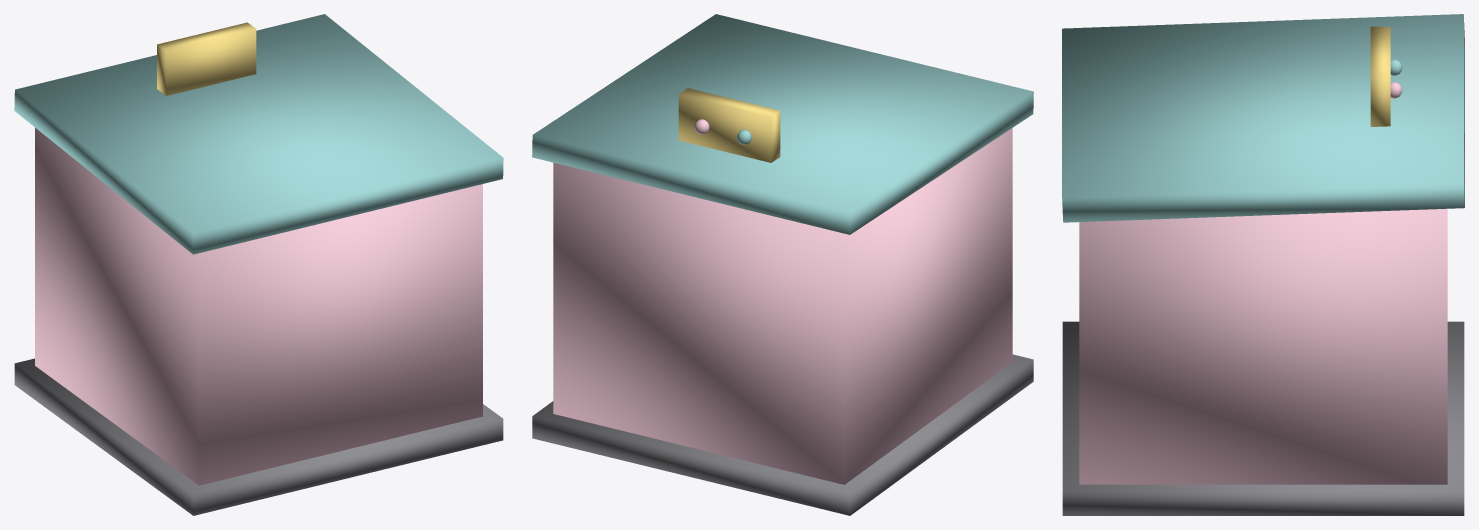
File: arcade_center_lv2.glb
3 renders of one model, left to right at view 1: azimuth 30°, elevation 25°; view 2: azimuth 150°, elevation 25°; view 3: azimuth 270°, elevation 25°, orthographic. The views are drawn at different scales.
Parts seen in each view (by area): view 1: body, roof, floor, controller_sign; view 2: body, roof, floor, controller_sign; view 3: body, roof, floor, controller_sign.
Boxes of the visible parts, x1,y1,x2,y2 form: body: [35, 127, 482, 485]; roof: [14, 14, 503, 254]; floor: [14, 358, 503, 515]; controller_sign: [157, 22, 256, 95]; body: [553, 128, 1012, 484]; roof: [532, 14, 1033, 234]; floor: [532, 354, 1033, 515]; controller_sign: [678, 88, 780, 162]; body: [1079, 208, 1447, 484]; roof: [1062, 14, 1464, 222]; floor: [1062, 321, 1464, 515]; controller_sign: [1370, 26, 1390, 126].
Bounding box in the file's own units: 1.2 × 1.25 × 1.2.
